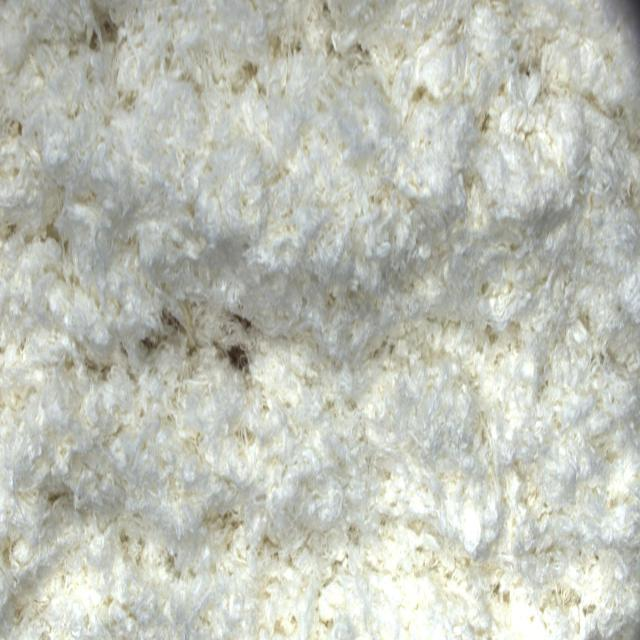dust: (220, 339, 256, 379)
